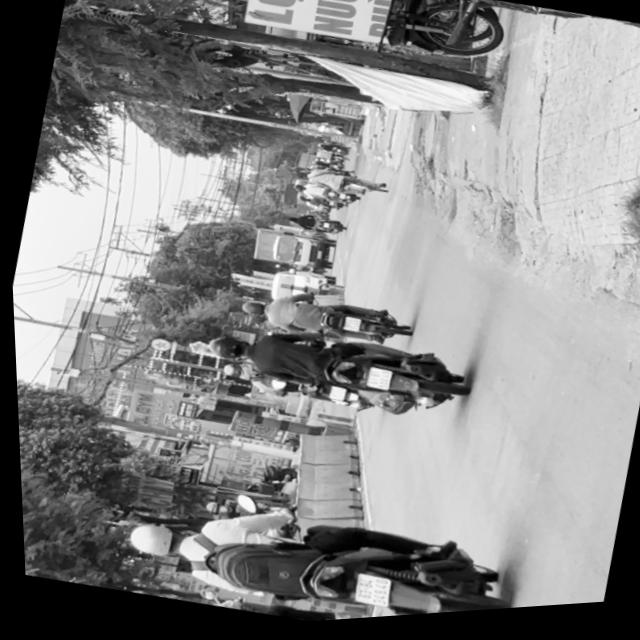helmet: (117, 517, 183, 567), (200, 334, 248, 368), (134, 435, 172, 462)
licenseplate: (106, 466, 515, 635), (193, 304, 470, 444)
nohelmet: (343, 576, 387, 615), (360, 369, 389, 396)
